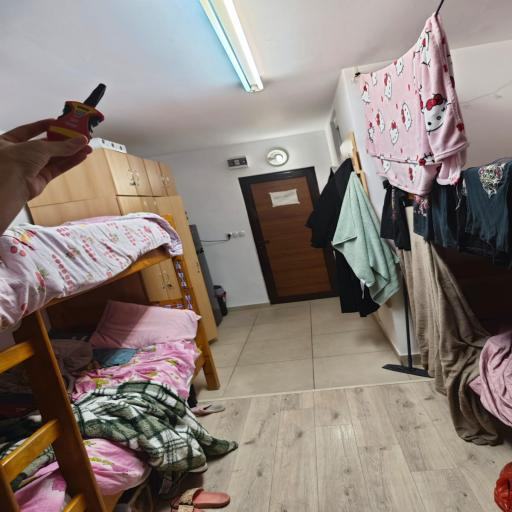Super Glue: (49, 82, 105, 148)
